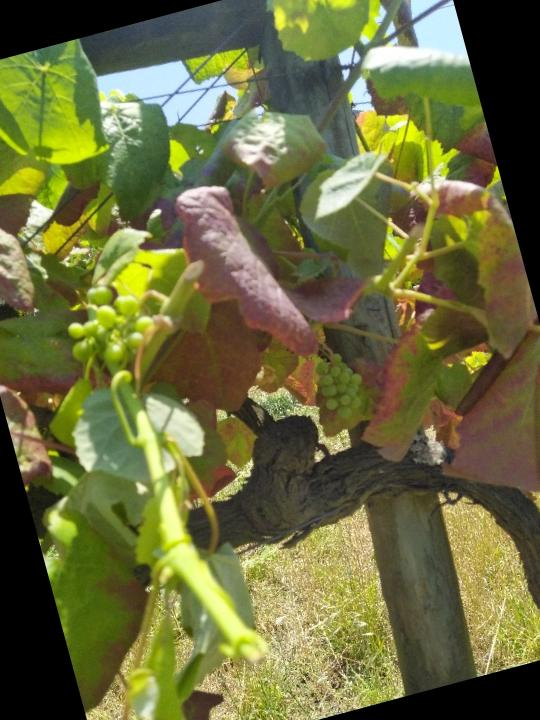grape: (56, 274, 164, 385), (304, 346, 373, 431)
